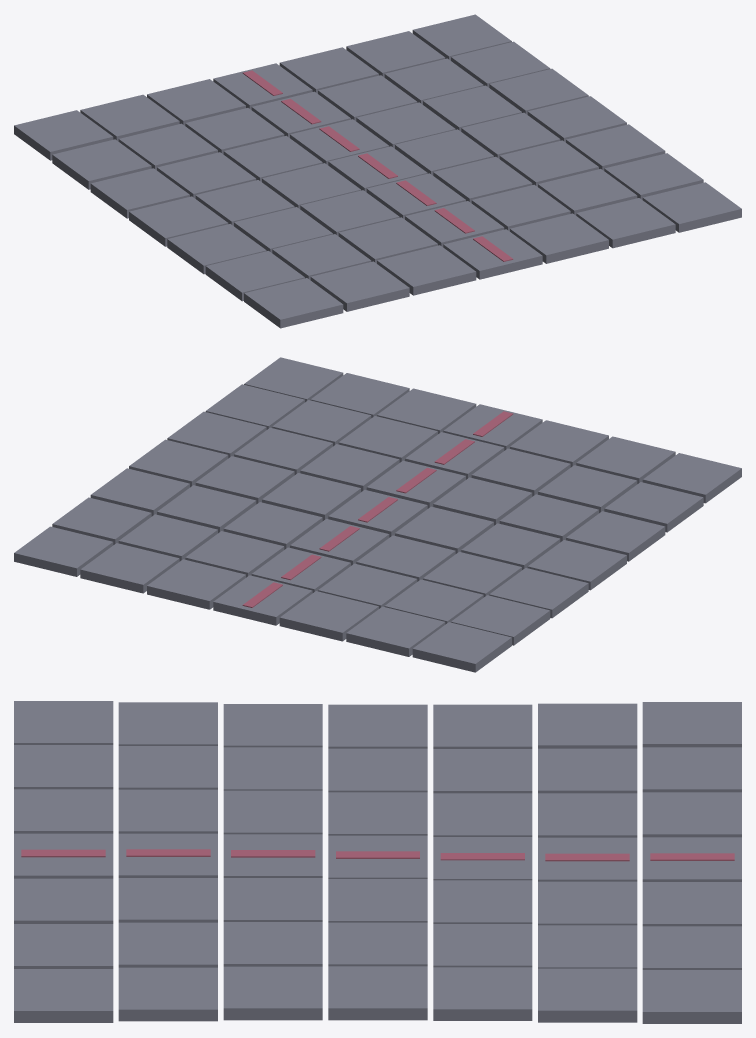
The model's file is dojo_ceremonial_court_lod0.glb.
3 renders of one model, top to bottom at view 1: azimuth 30°, elevation 25°; view 2: azimuth 150°, elevation 25°; view 3: azimuth 270°, elevation 25°, orthographic. The views are drawn at different scales.
Parts seen in each view (by area): view 1: dojo_ceremonial_court_006, dojo_ceremonial_court_013, dojo_ceremonial_court_020, dojo_ceremonial_court_041, dojo_ceremonial_court_048, dojo_ceremonial_court_055, dojo_ceremonial_court_000, dojo_ceremonial_court_001, dojo_ceremonial_court_002, dojo_ceremonial_court_003, dojo_ceremonial_court_005, dojo_ceremonial_court_004 (+37 smaller); view 2: dojo_ceremonial_court_000, dojo_ceremonial_court_049, dojo_ceremonial_court_042, dojo_ceremonial_court_035, dojo_ceremonial_court_014, dojo_ceremonial_court_007, dojo_ceremonial_court_005, dojo_ceremonial_court_006, dojo_ceremonial_court_004, dojo_ceremonial_court_003, dojo_ceremonial_court_002, dojo_ceremonial_court_001 (+37 smaller); view 3: dojo_ceremonial_court_052, dojo_ceremonial_court_050, dojo_ceremonial_court_053, dojo_ceremonial_court_054, dojo_ceremonial_court_049, dojo_ceremonial_court_051, dojo_ceremonial_court_055, dojo_ceremonial_court_000, dojo_ceremonial_court_001, dojo_ceremonial_court_007, dojo_ceremonial_court_014, dojo_ceremonial_court_041 (+44 smaller).
Part boxes in pixels (<box>): dojo_ceremonial_court_006: <box>244,278,343,328</box>; dojo_ceremonial_court_013: <box>310,261,409,311</box>; dojo_ceremonial_court_020: <box>377,245,476,295</box>; dojo_ceremonial_court_041: <box>510,213,608,263</box>; dojo_ceremonial_court_048: <box>576,198,675,248</box>; dojo_ceremonial_court_055: <box>642,182,741,232</box>; dojo_ceremonial_court_000: <box>14,110,113,160</box>; dojo_ceremonial_court_001: <box>52,139,151,189</box>; dojo_ceremonial_court_002: <box>90,168,189,218</box>; dojo_ceremonial_court_003: <box>129,196,228,246</box>; dojo_ceremonial_court_005: <box>205,251,304,301</box>; dojo_ceremonial_court_004: <box>167,224,266,274</box>; dojo_ceremonial_court_000: <box>412,622,511,672</box>; dojo_ceremonial_court_049: <box>14,526,113,576</box>; dojo_ceremonial_court_042: <box>80,543,179,593</box>; dojo_ceremonial_court_035: <box>147,559,245,609</box>; dojo_ceremonial_court_014: <box>279,591,378,641</box>; dojo_ceremonial_court_007: <box>346,606,445,656</box>; dojo_ceremonial_court_005: <box>604,482,703,532</box>; dojo_ceremonial_court_006: <box>642,453,741,503</box>; dojo_ceremonial_court_004: <box>566,511,665,561</box>; dojo_ceremonial_court_003: <box>527,540,626,590</box>; dojo_ceremonial_court_002: <box>489,568,588,618</box>; dojo_ceremonial_court_001: <box>451,595,550,645</box>; dojo_ceremonial_court_052: <box>328,966,427,1020</box>; dojo_ceremonial_court_050: <box>538,968,637,1022</box>; dojo_ceremonial_court_053: <box>223,966,322,1020</box>; dojo_ceremonial_court_054: <box>118,967,217,1021</box>; dojo_ceremonial_court_049: <box>642,970,741,1023</box>; dojo_ceremonial_court_051: <box>433,967,532,1020</box>; dojo_ceremonial_court_055: <box>14,969,113,1022</box>; dojo_ceremonial_court_000: <box>642,702,741,747</box>; dojo_ceremonial_court_001: <box>538,703,637,748</box>; dojo_ceremonial_court_007: <box>642,747,741,792</box>; dojo_ceremonial_court_014: <box>642,792,741,837</box>; dojo_ceremonial_court_041: <box>14,878,113,923</box>.
Bounding box in the file's own units: 7.78 × 0.2123 × 7.78.
